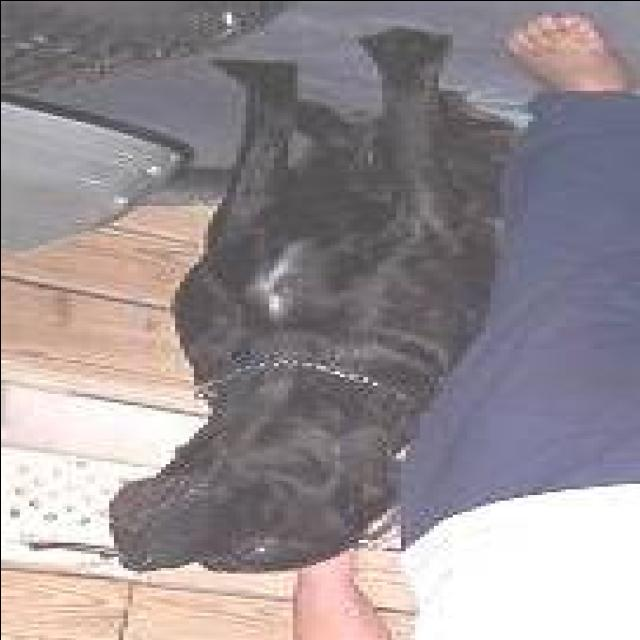dog: (0, 0, 513, 593)
